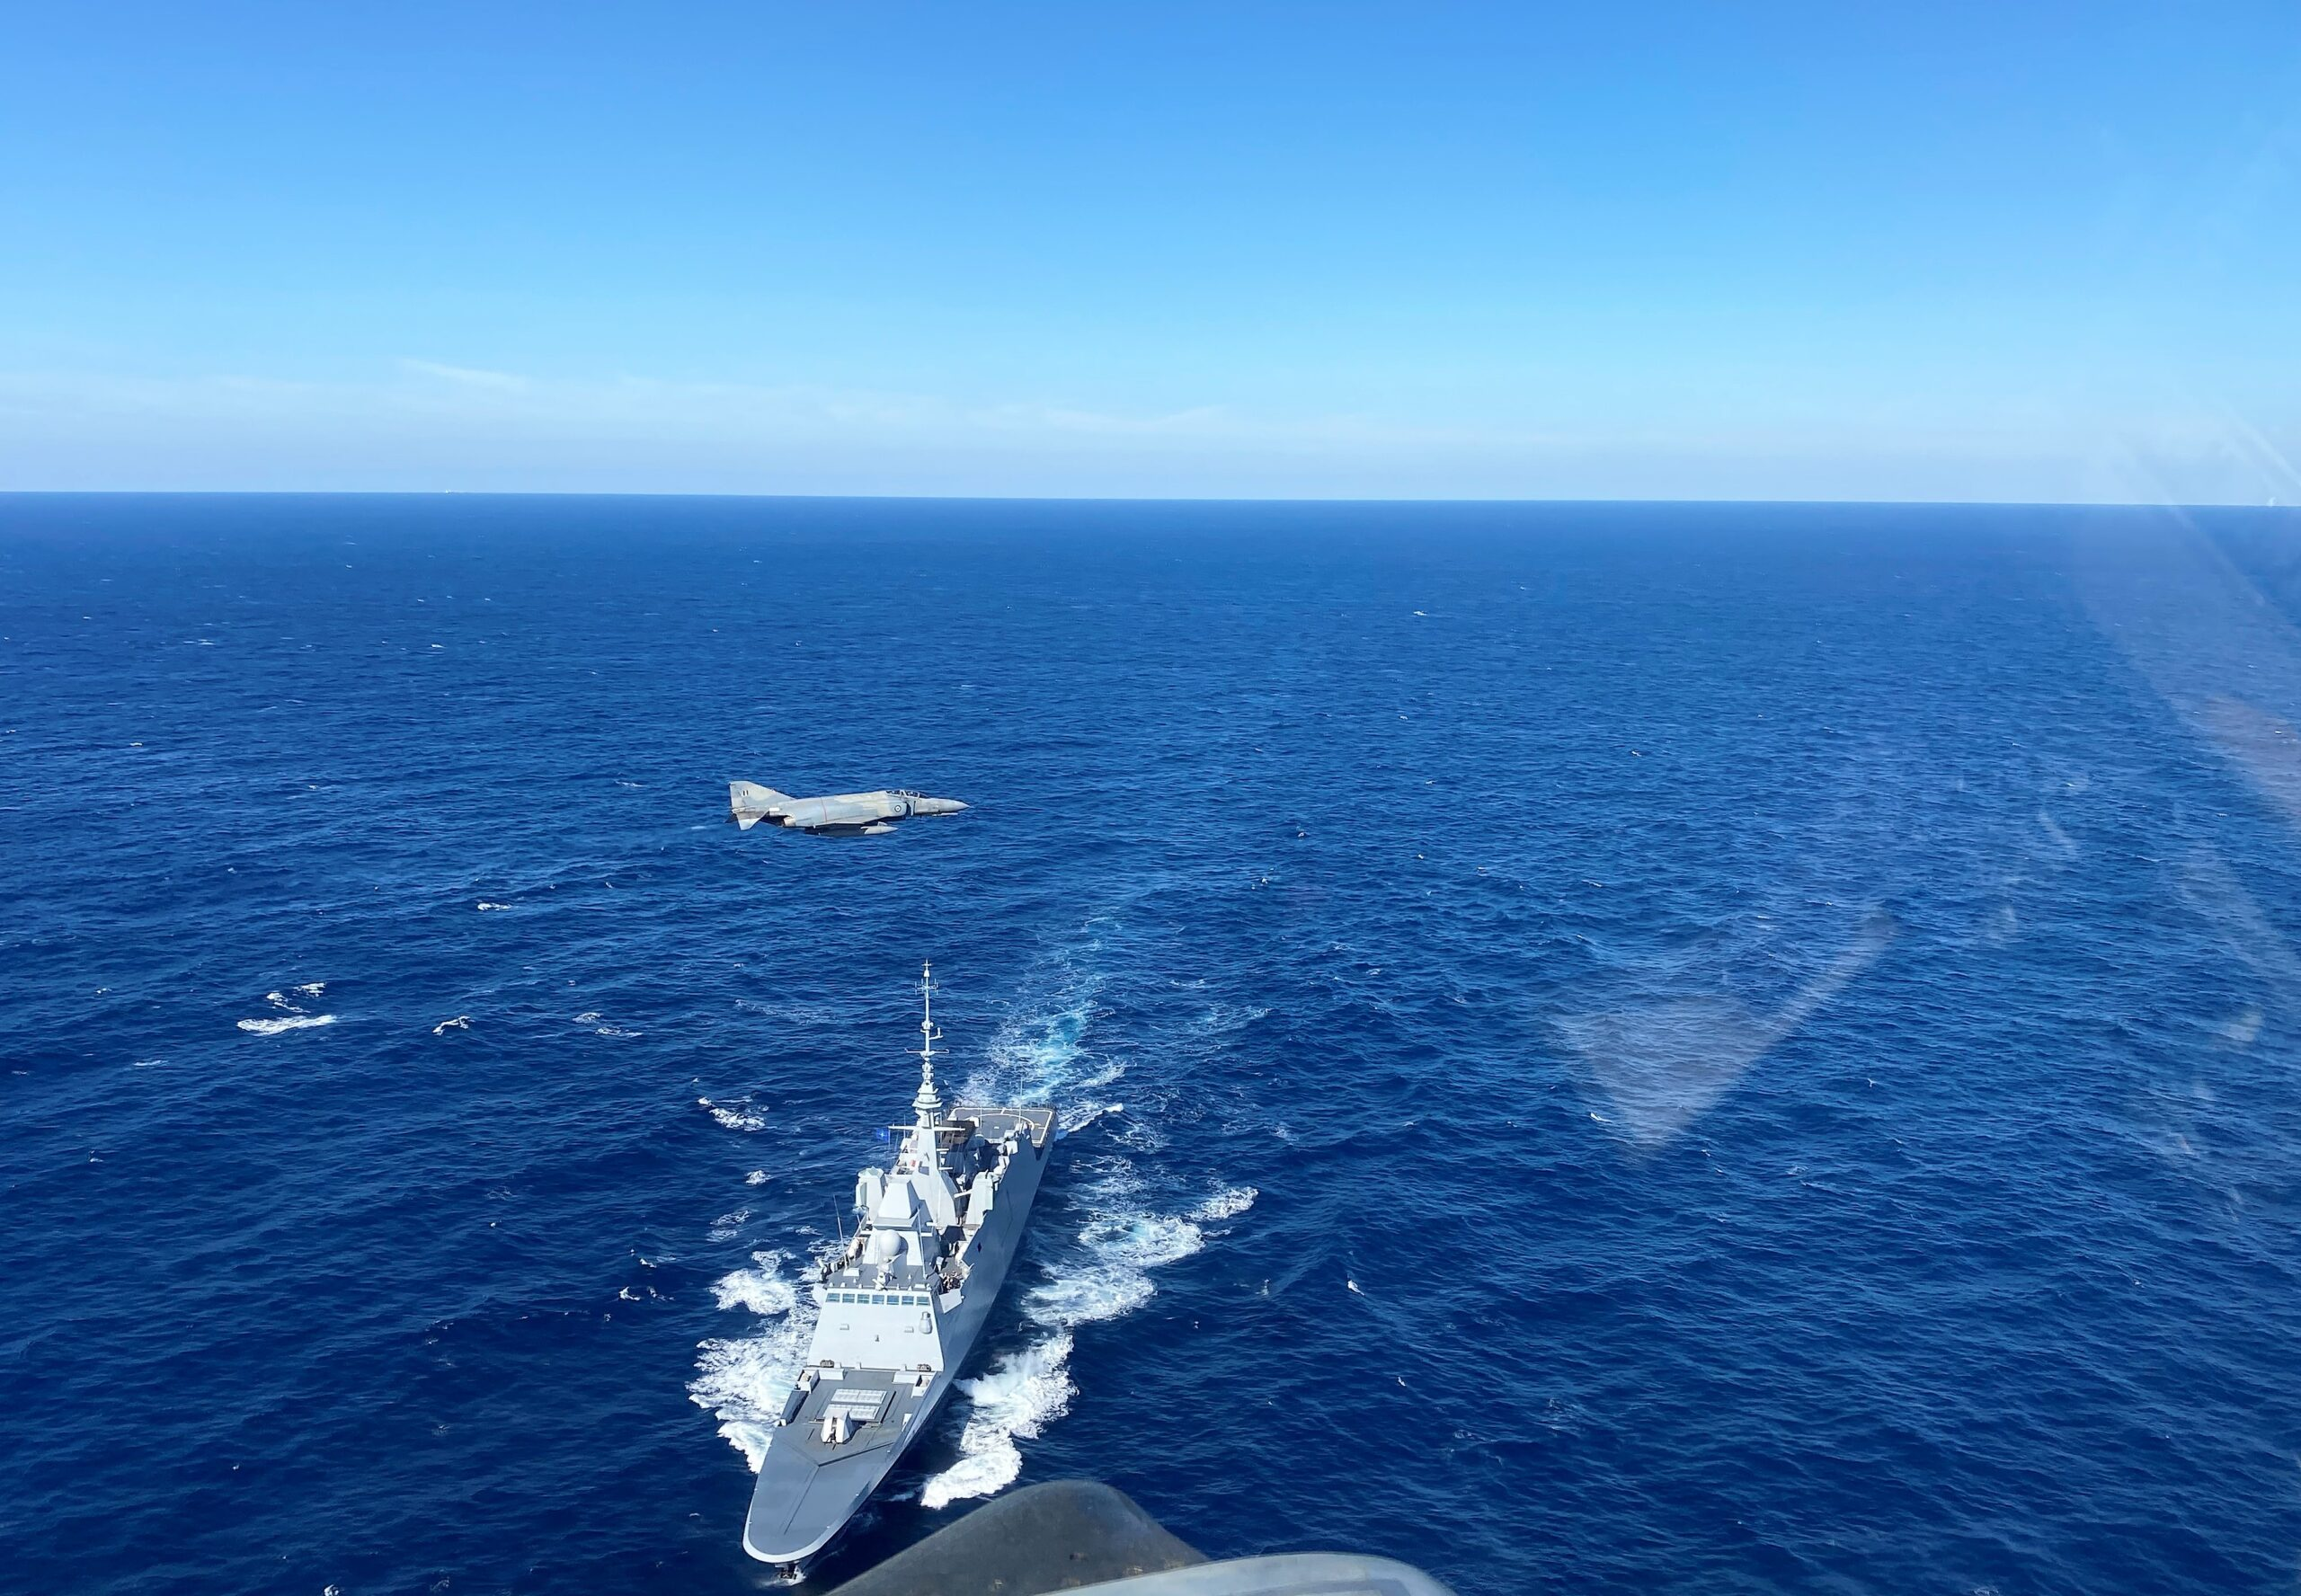F4: (724, 780, 976, 837)
